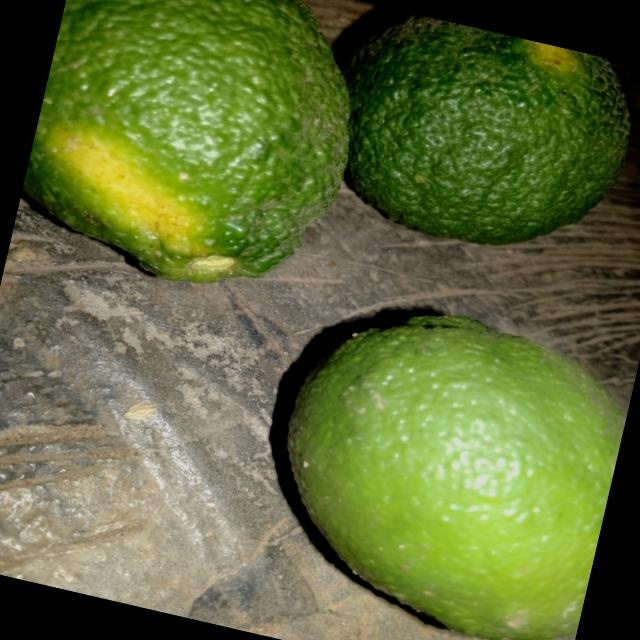agrume: (228, 266, 640, 640), (8, 0, 398, 323), (298, 0, 640, 285)
